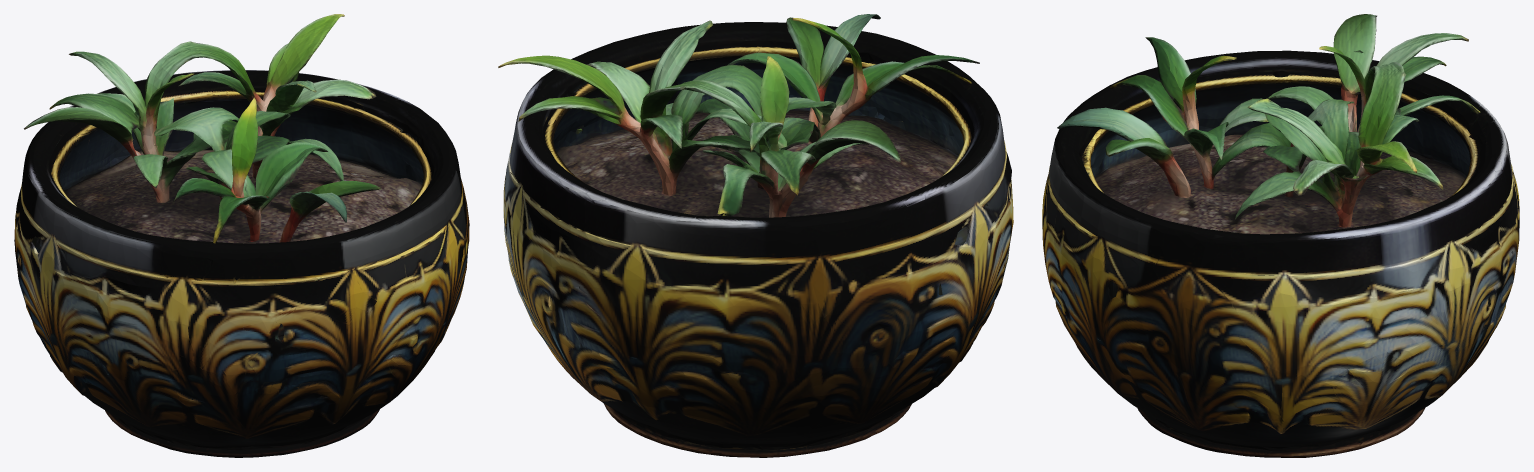
The model's file is ceramic-planter-art-deco.jpeg.glb.
The picture shows the model from 3 angles, left to right: view 1: azimuth 30°, elevation 25°; view 2: azimuth 150°, elevation 25°; view 3: azimuth 270°, elevation 25°; orthographic projection. The views are drawn at different scales.
Parts seen in each view (by area): view 1: world; view 2: world; view 3: world.
Part boxes in pixels (bbox=[...]): world: bbox=[14, 14, 469, 457]; world: bbox=[498, 14, 1013, 457]; world: bbox=[1042, 14, 1519, 457].
Bounding box in the file's own units: 0.999 × 0.7741 × 0.9984.
Materials: 1 (1 with a texture image).
